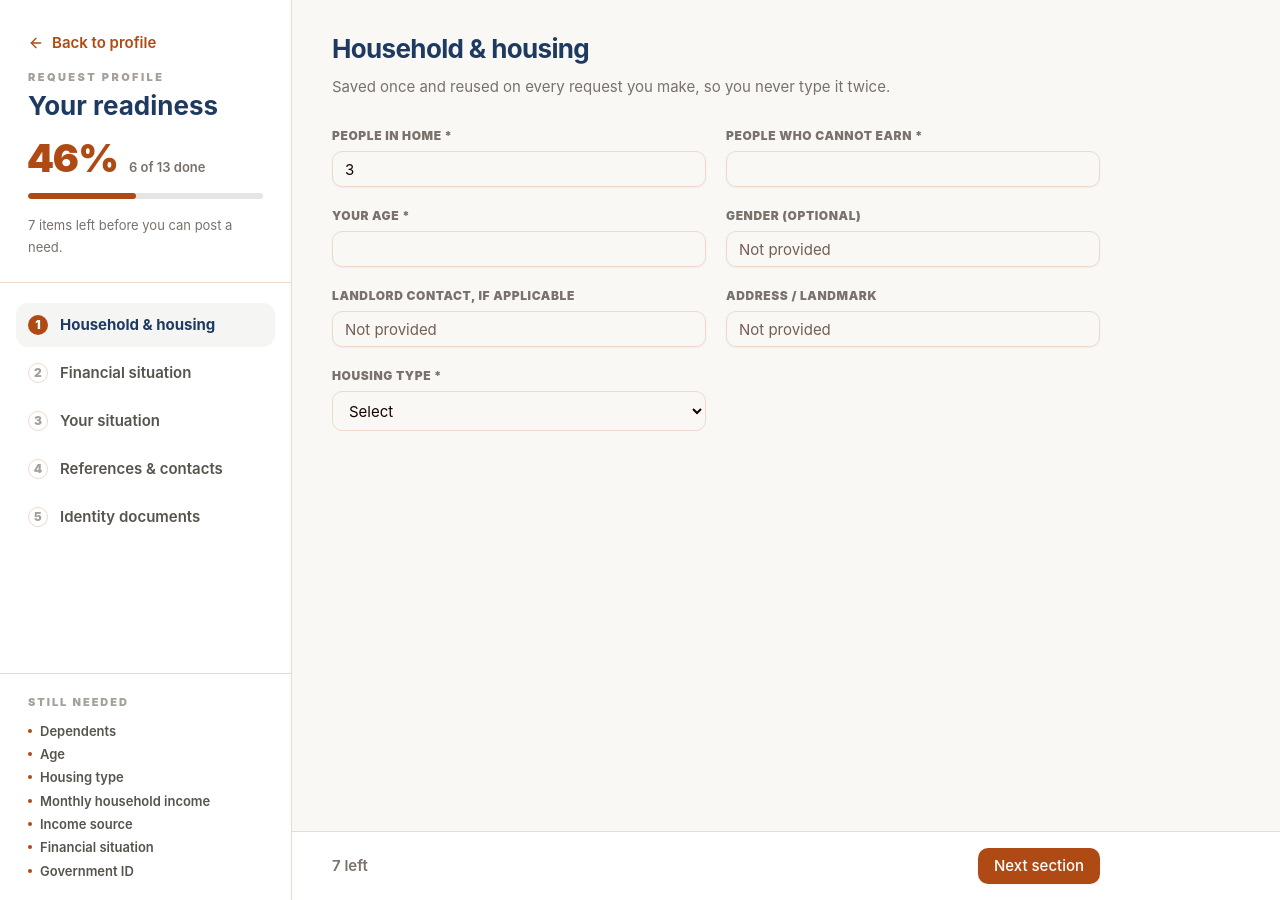
Test: Next is blocked by an empty required field, and saves before moving on
This screenshot has width=1280, height=900.
Click the button "Next section".
click(1039, 866)  # box [978,848,1100,884]
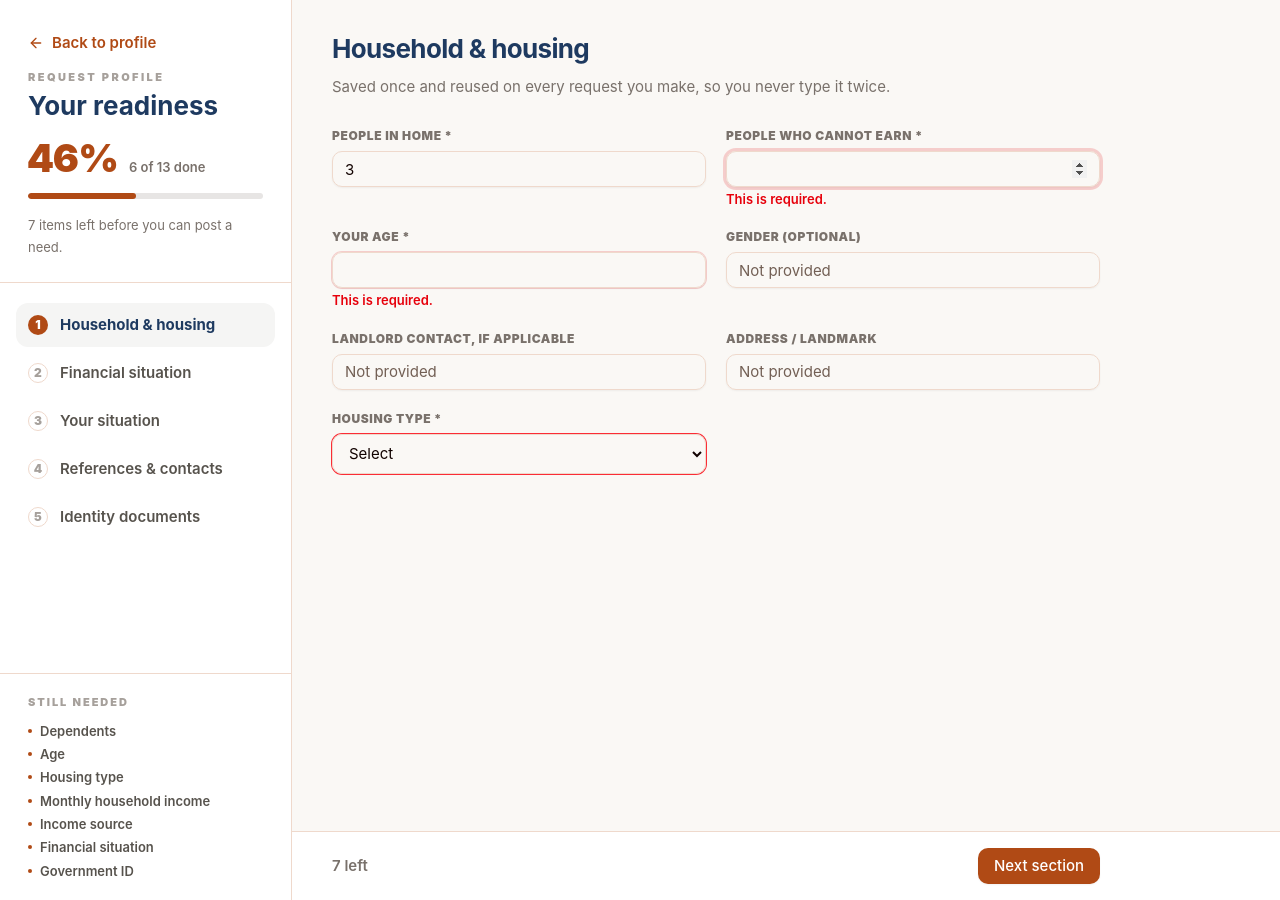
Type "1" into the number field labelled "People who cannot earn *".
click(913, 169); type("1")  # box [726,151,1100,187]
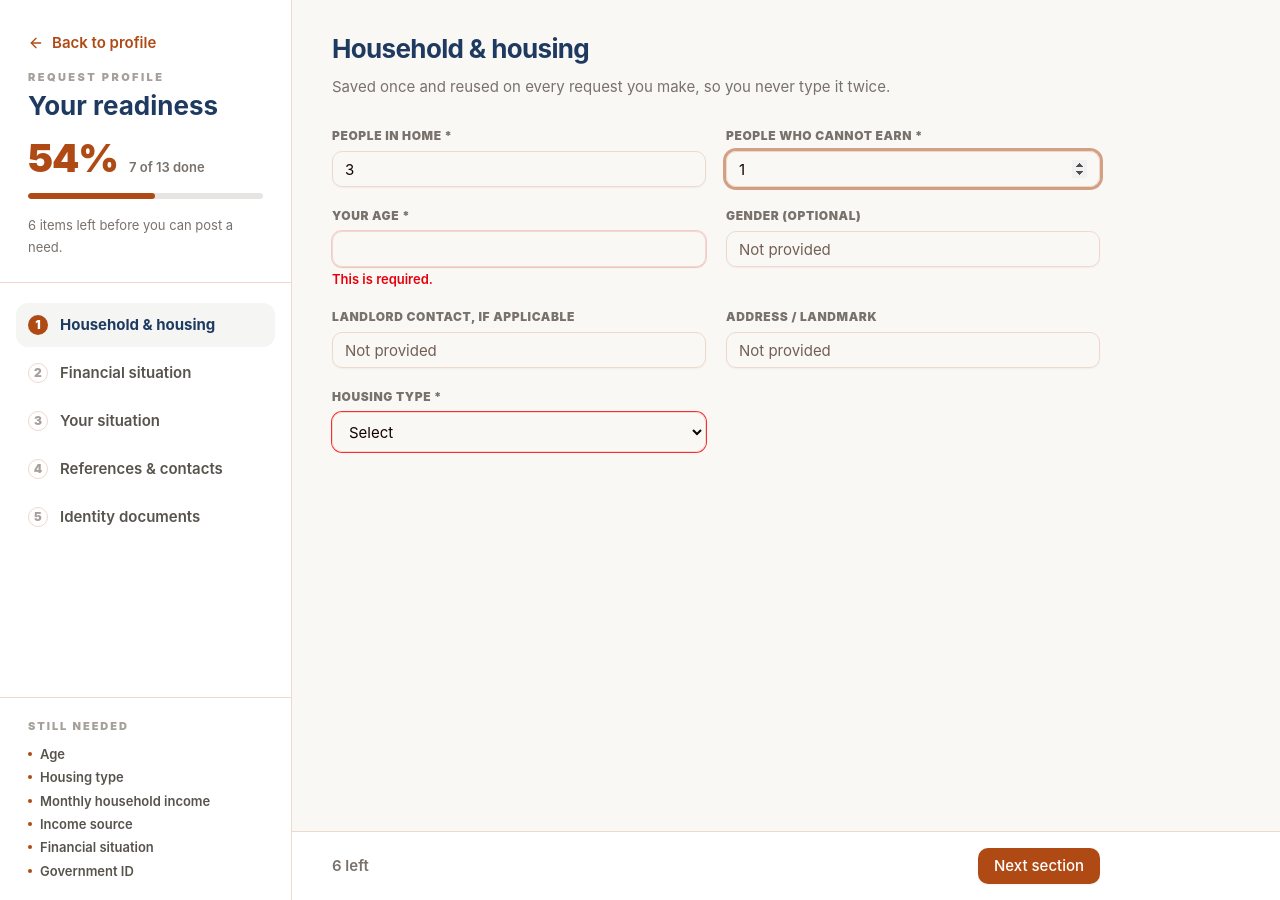
Type "30" into the number field labelled "Your age *".
click(519, 249); type("30")  # box [332,231,706,267]
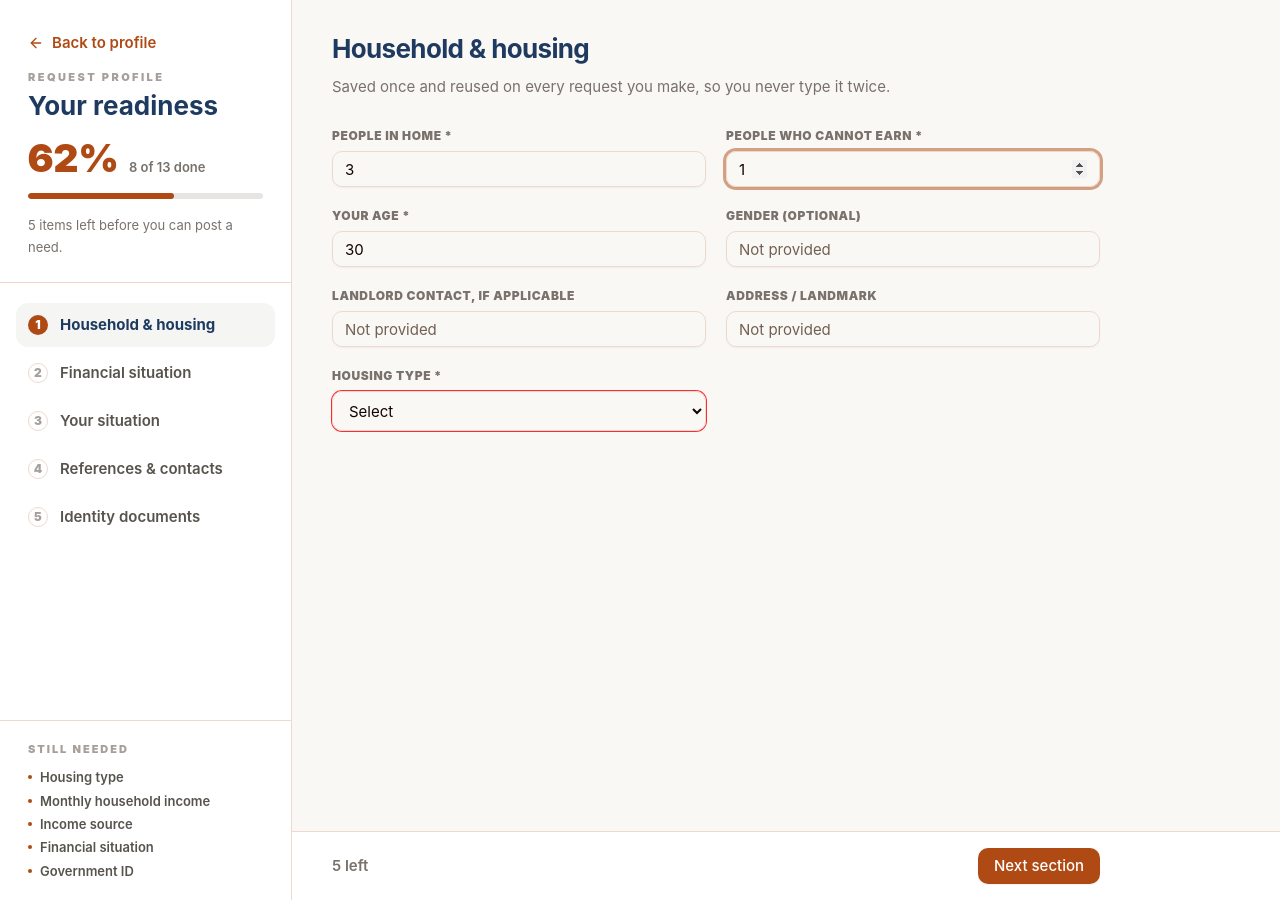
Select "Owned" in the dropdown labelled "Housing type *" at (519, 411), box [332,391,706,431]
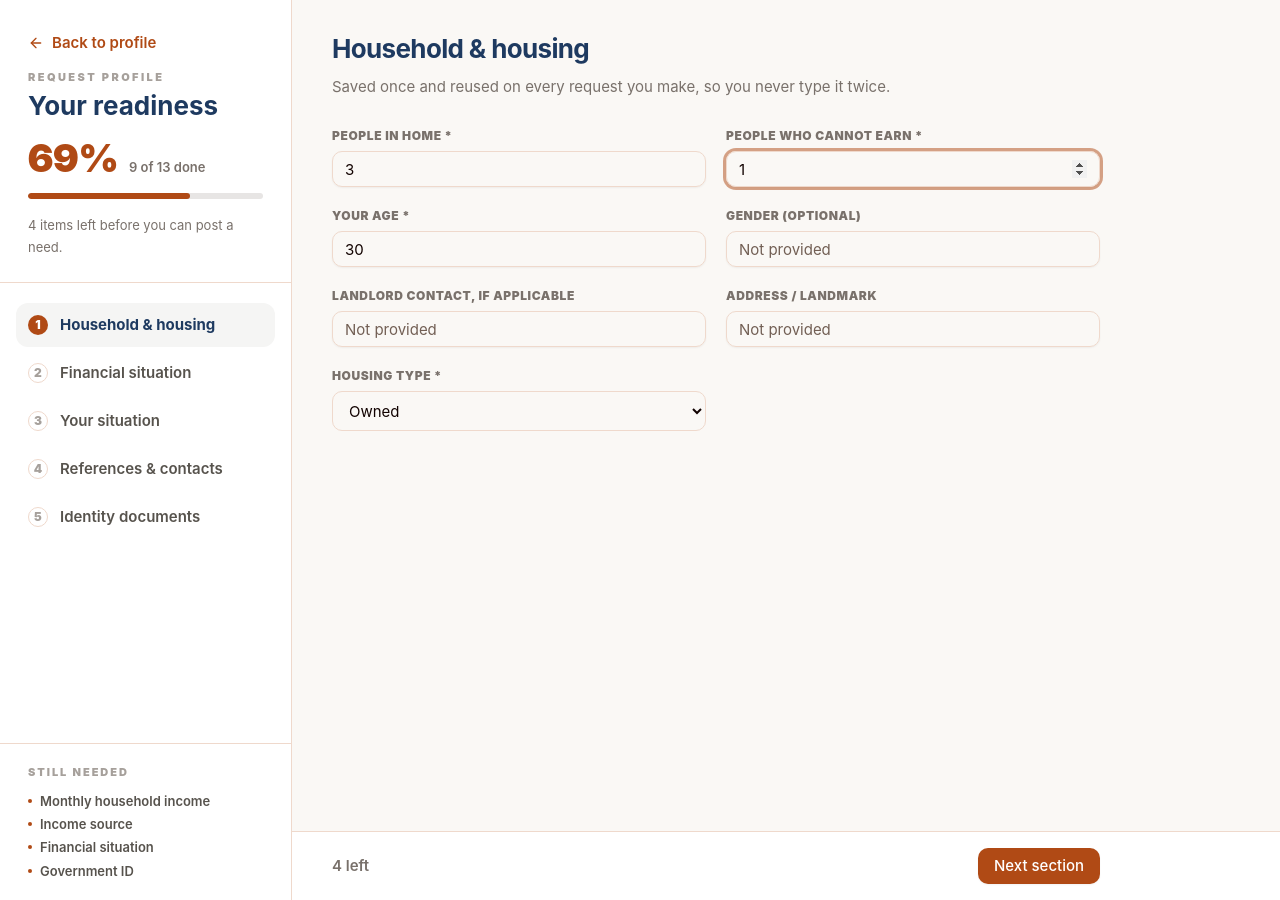
Click the button "Next section".
click(1039, 866)  # box [978,848,1100,884]
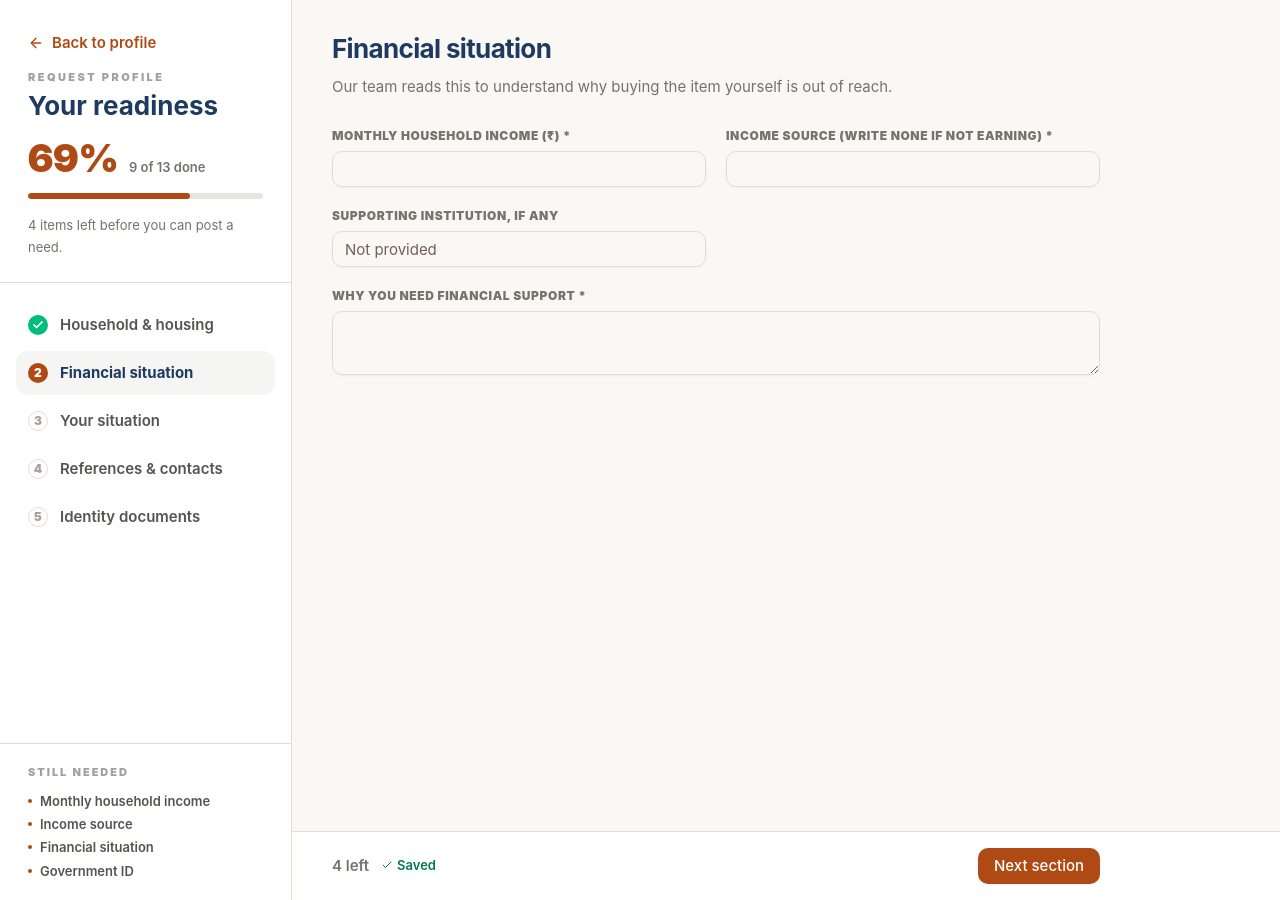
Expected: the heading "Financial situation" is shown, [332,33,551,64]
